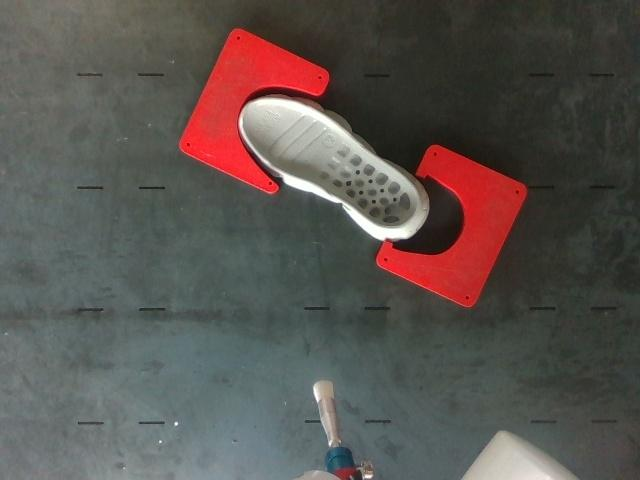shoes: (243, 99, 418, 228)
